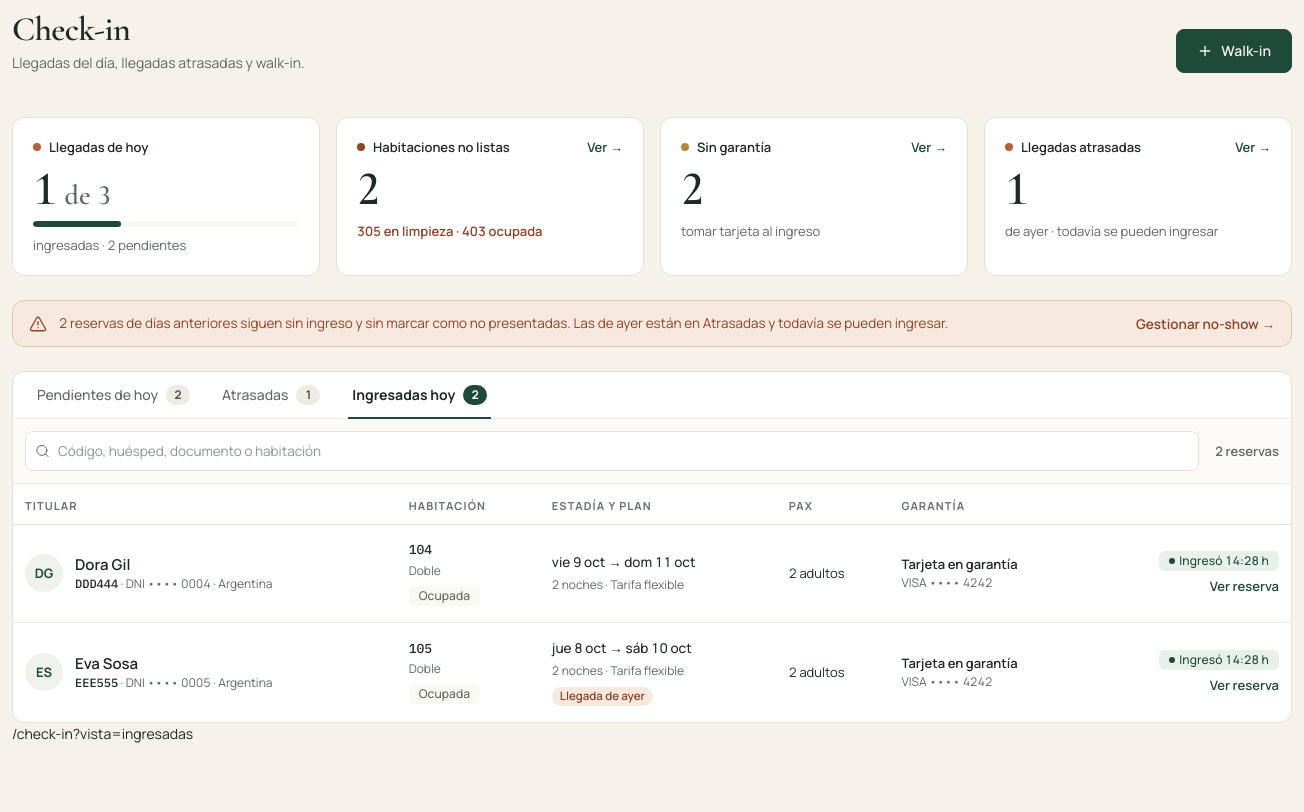
abrir el check-in › las filas de Ingresadas hoy no abren el formulario: llevan al detalle
What coordinates should you click on to do the following:
click the text "Dora Gil"
I would click on:
 (652, 573)
Its box is [13,524,1291,622].
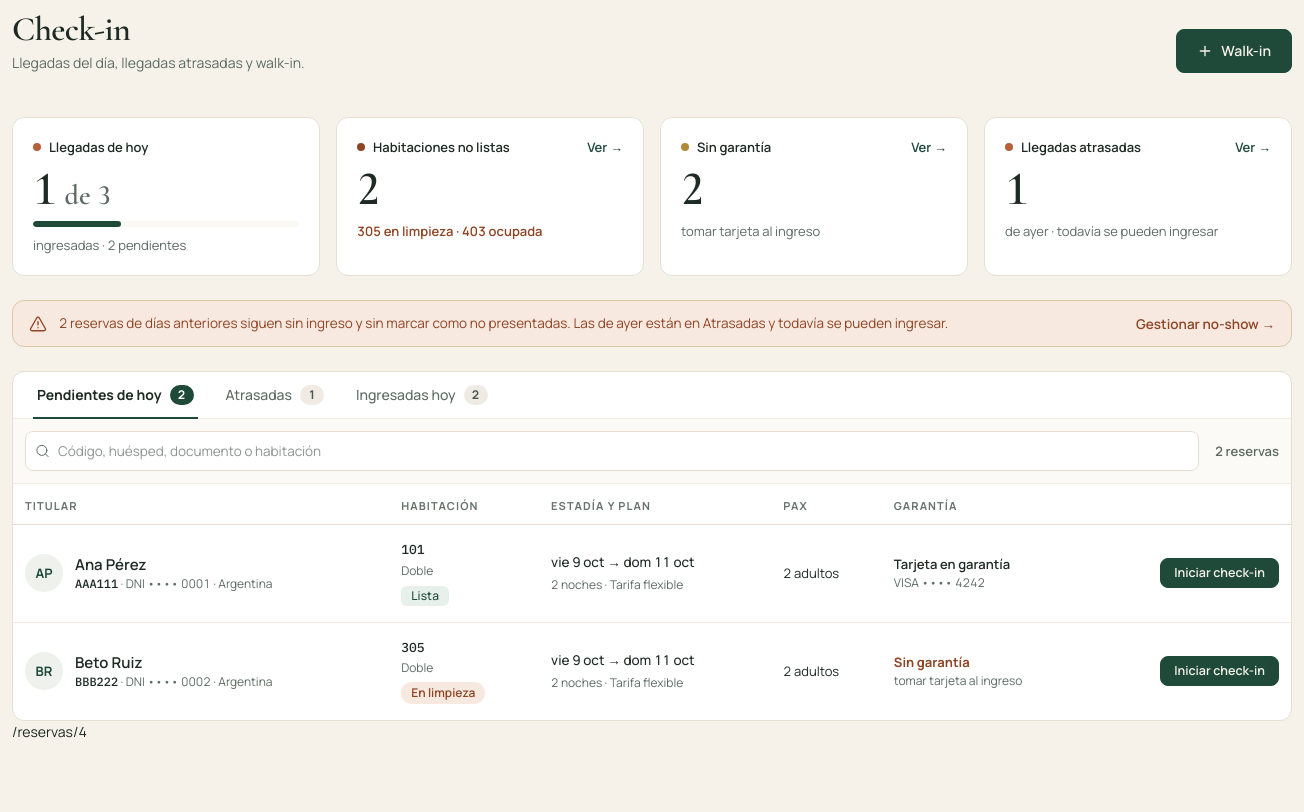
Result: the text with test id "ubicacion" reads "/reservas/4" at [12,722,87,740]
